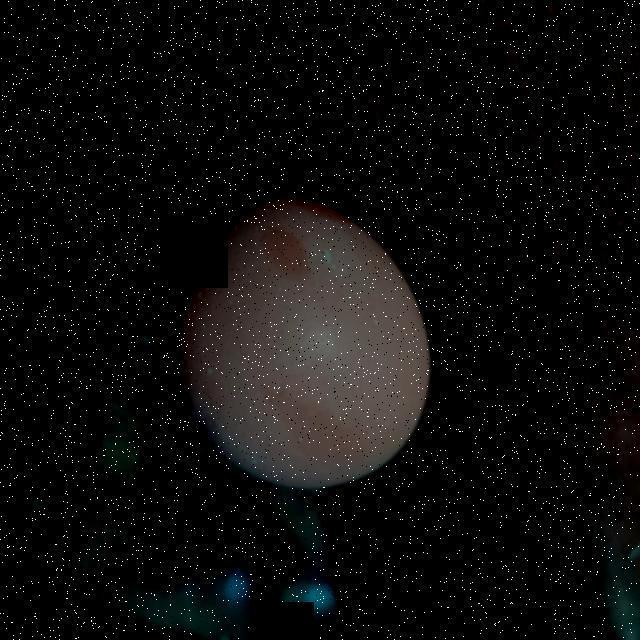egg: (156, 185, 436, 497)
